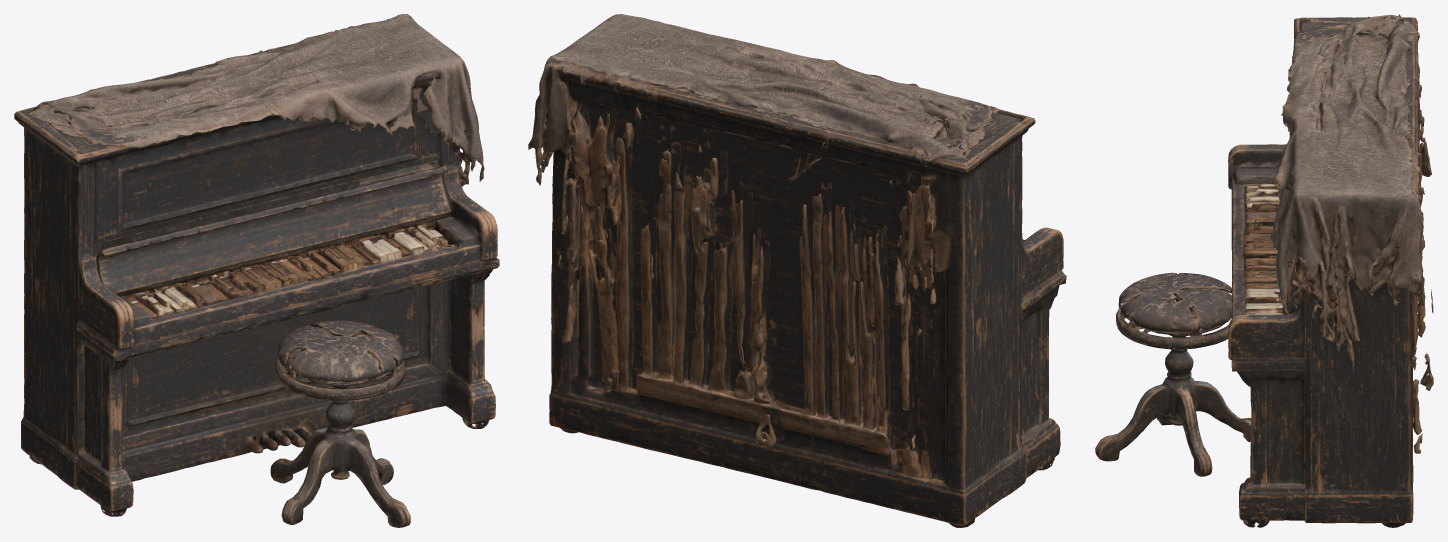
Rendered from Piano.fbx.
3 renders of one model, left to right at view 1: azimuth 30°, elevation 25°; view 2: azimuth 150°, elevation 25°; view 3: azimuth 270°, elevation 25°, orthographic. The views are drawn at different scales.
Parts seen in each view (by area): view 1: texture_mapping; view 2: texture_mapping; view 3: texture_mapping.
Boxes of the visible parts, <box> form: texture_mapping: <box>14,14,499,527</box>; texture_mapping: <box>528,14,1066,527</box>; texture_mapping: <box>1095,14,1433,527</box>.
Bounding box in the file's own units: 1 × 0.7482 × 0.8539.
Materials: 1 (1 with a texture image).
